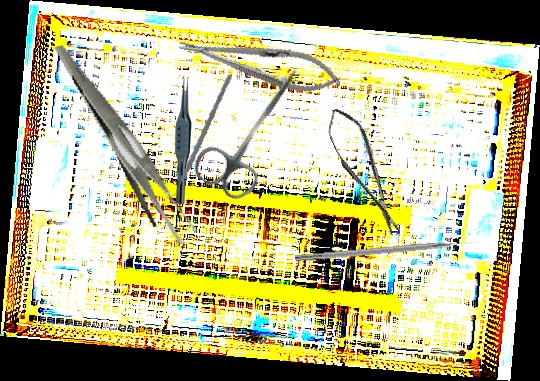Chopper: (149, 74, 246, 199)
Dressing Forceps: (53, 23, 201, 263), (101, 113, 166, 234)
Hook Surgical: (294, 237, 480, 264)
Iris Scissors: (187, 51, 322, 207)
Micro Scissor: (320, 102, 408, 242)
Needle Holder: (175, 23, 346, 102)
Tissue Forceps: (175, 78, 192, 204)
